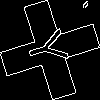Y: (25, 25, 78, 70)
